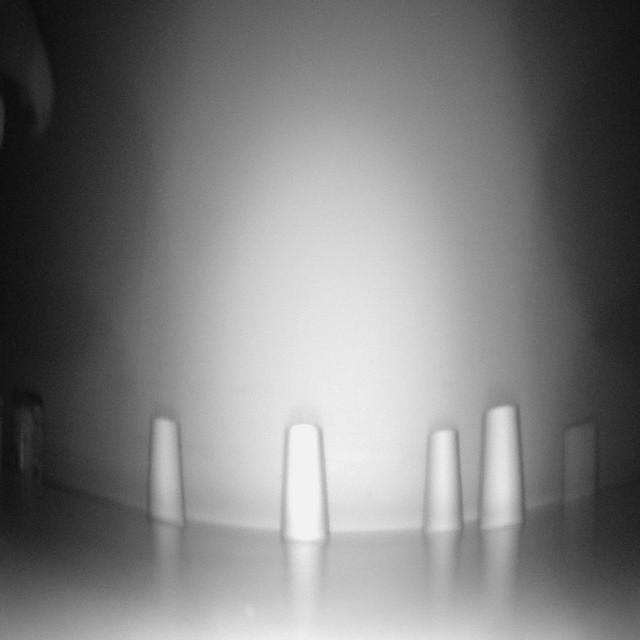targets: (476, 403, 526, 535), (280, 419, 330, 544), (144, 414, 187, 532), (422, 425, 464, 532), (13, 393, 48, 487), (564, 420, 600, 502)
